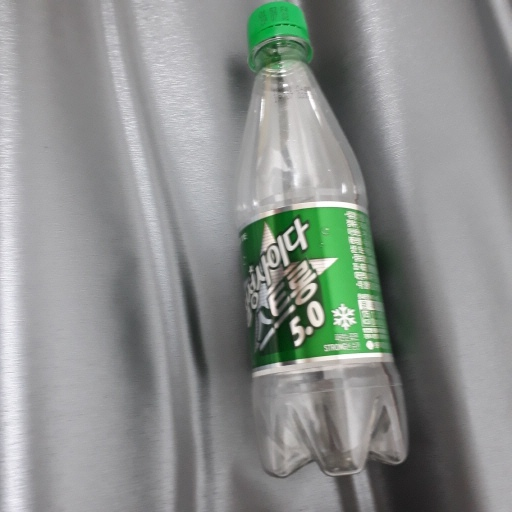Plastic_0: (233, 3, 410, 481)
